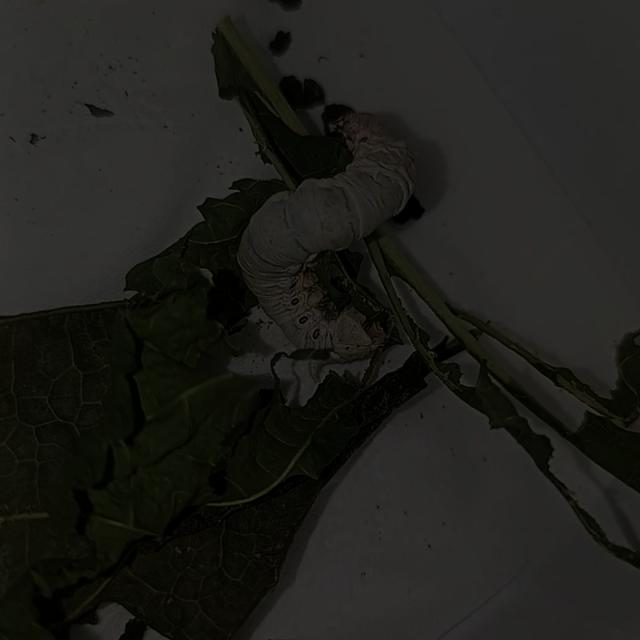Healthy: (232, 100, 434, 375)
